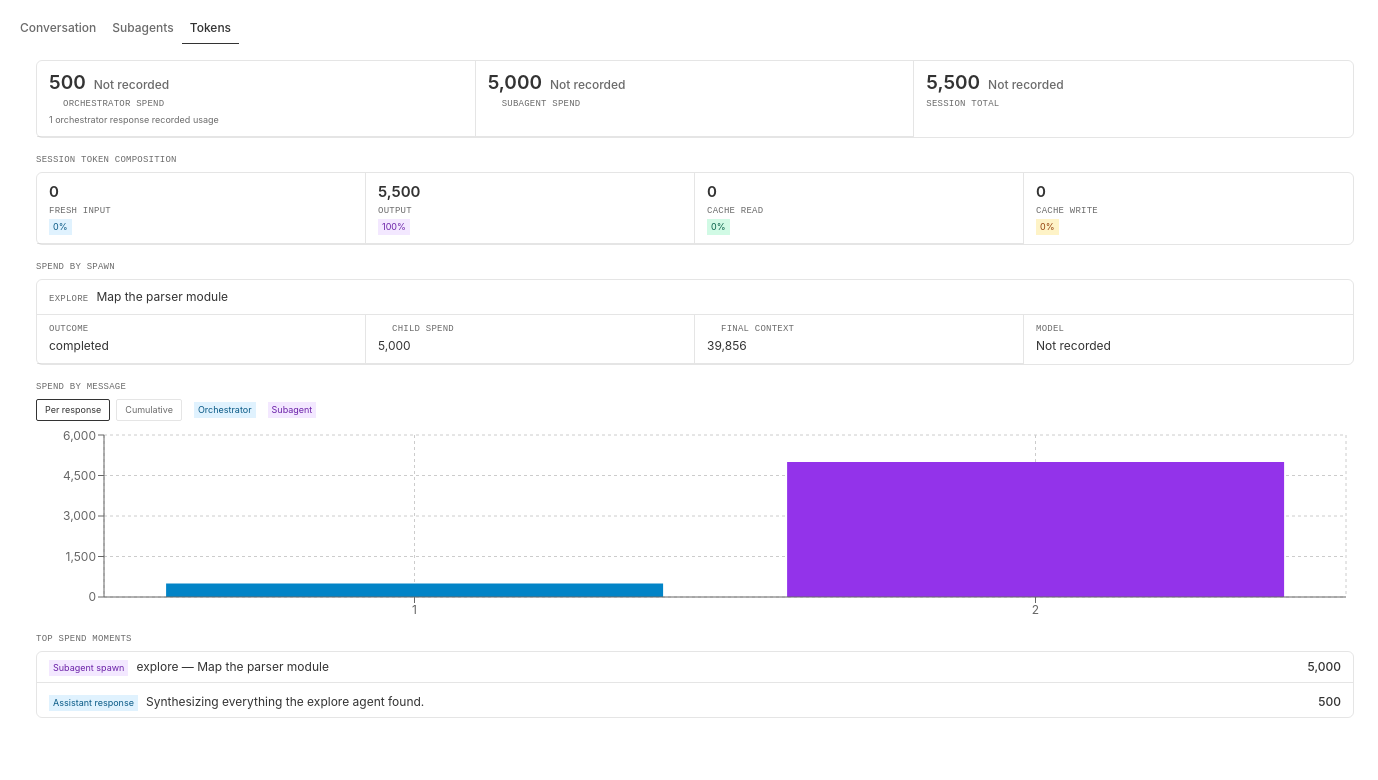
Test: the spike-to-cause link › hands a response moment to the Conversation, without touching Subagents
Click the button that starts with "Assistant response": {"x": 93, "y": 703} [37,687,1353,717]
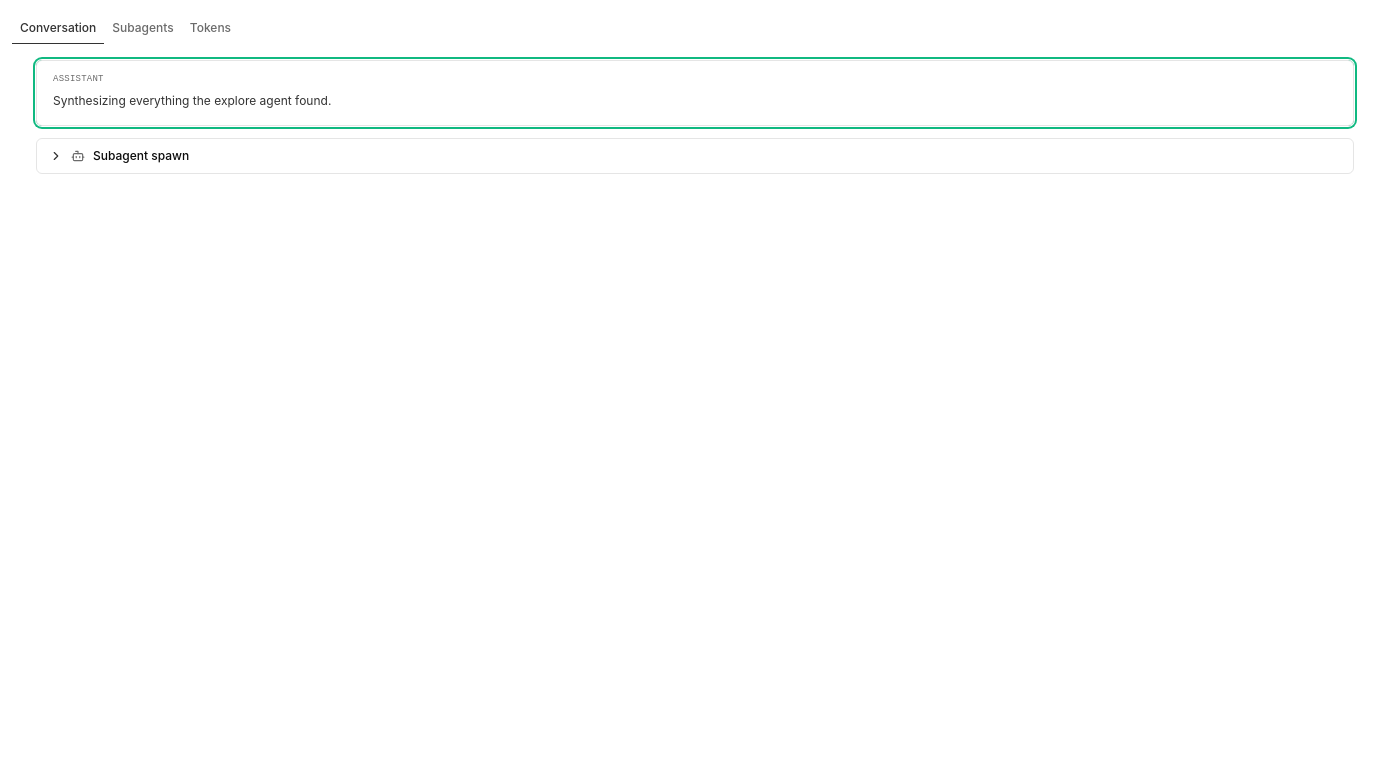
Expected: the list item "Assistant Synthesizing everything the explore agent found." is shown, [36,60,1354,126]
